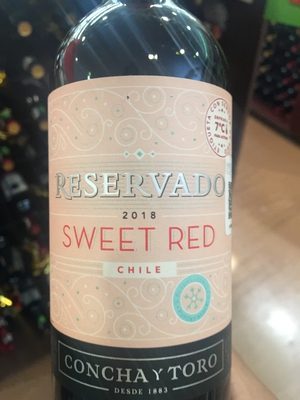reservado sweet red: (42, 17, 237, 400)
